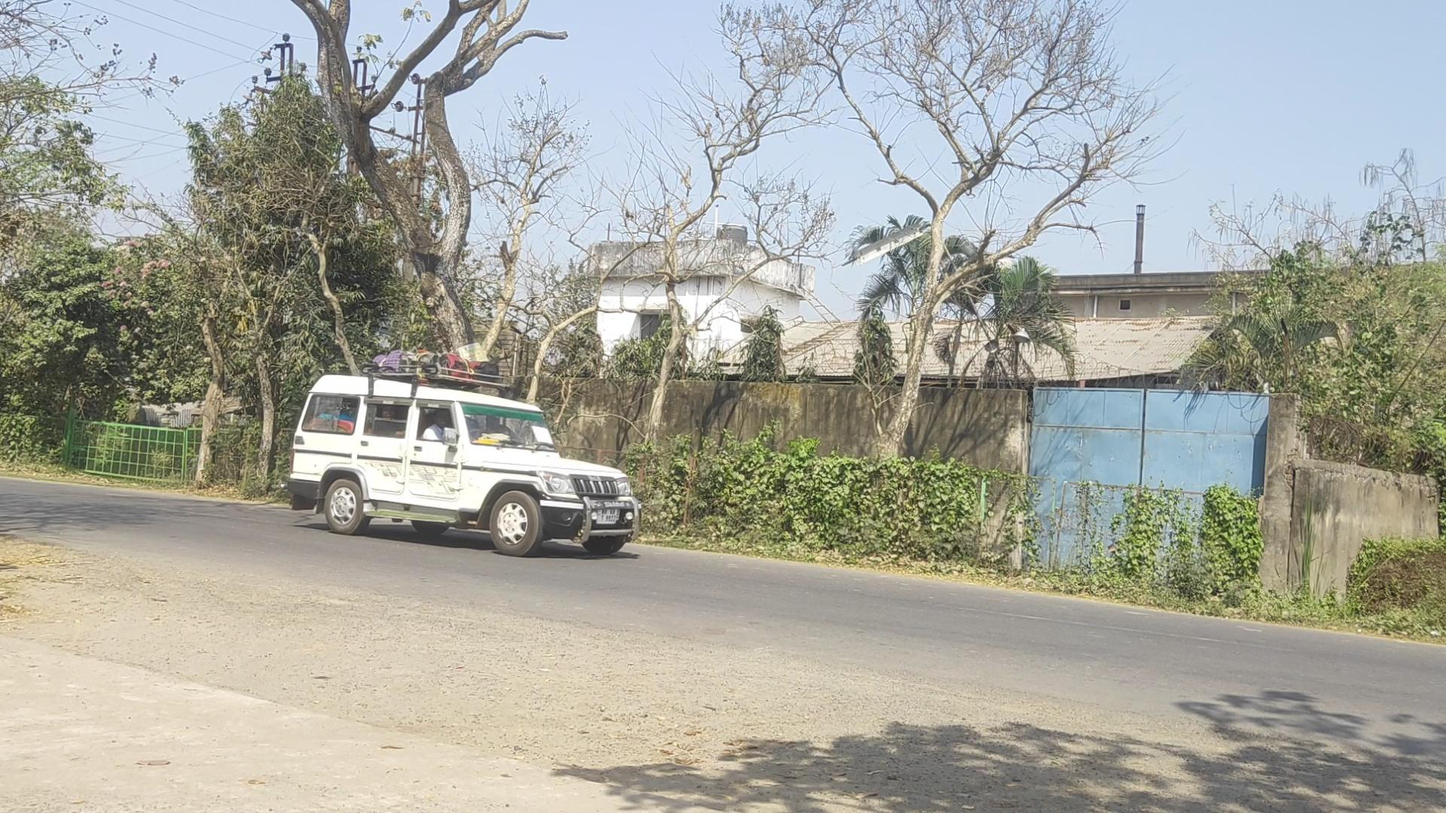car: (280, 350, 642, 558)
